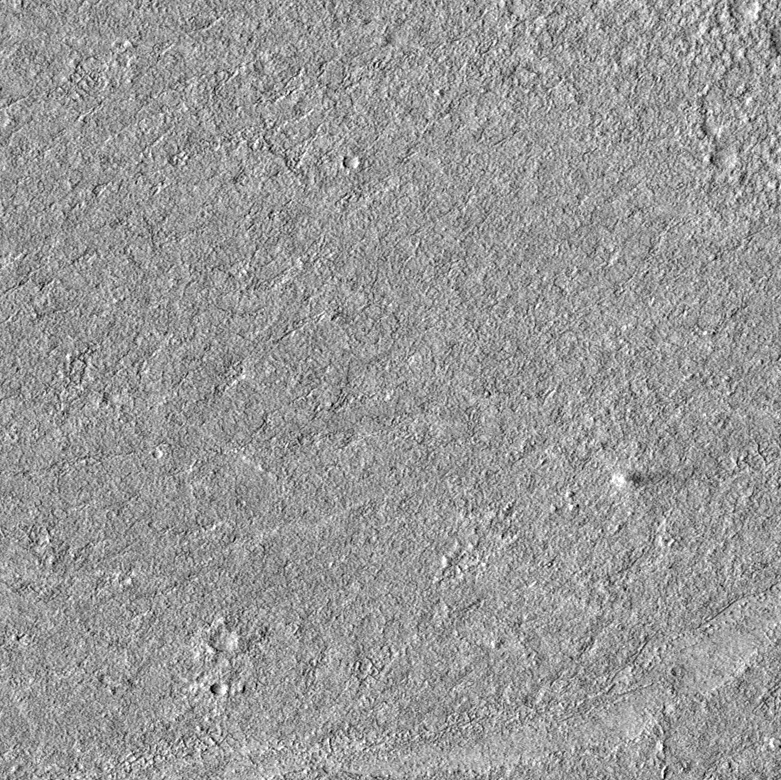dust_devil: (608, 466, 672, 490)
